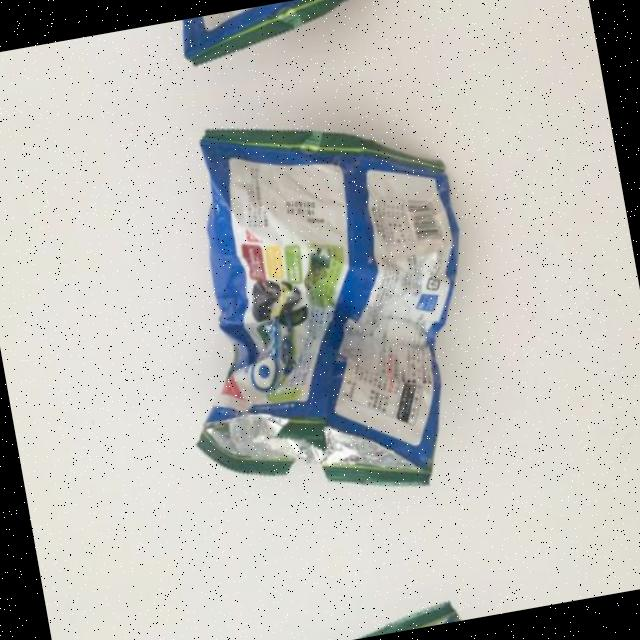Plastic: (131, 76, 516, 546), (113, 0, 435, 87), (217, 565, 536, 640)
